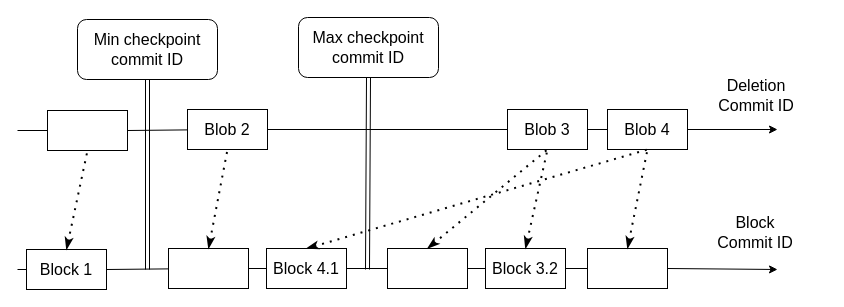
The diagram is 844 pixels wide and 307 high, and some of its shapes have lost their labels. Each missing label, with the box of its shape:
Blob 1: (46, 110, 128, 150)
Block 2: (168, 248, 248, 288)
Block 3.1: (386, 248, 468, 288)
Block 4.2: (586, 248, 668, 288)
